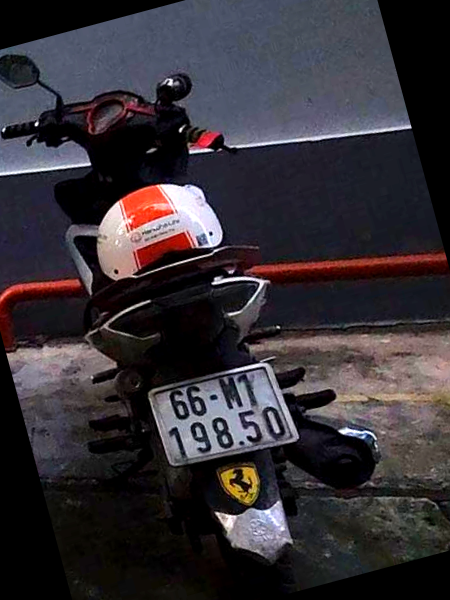number: (148, 360, 302, 464)
